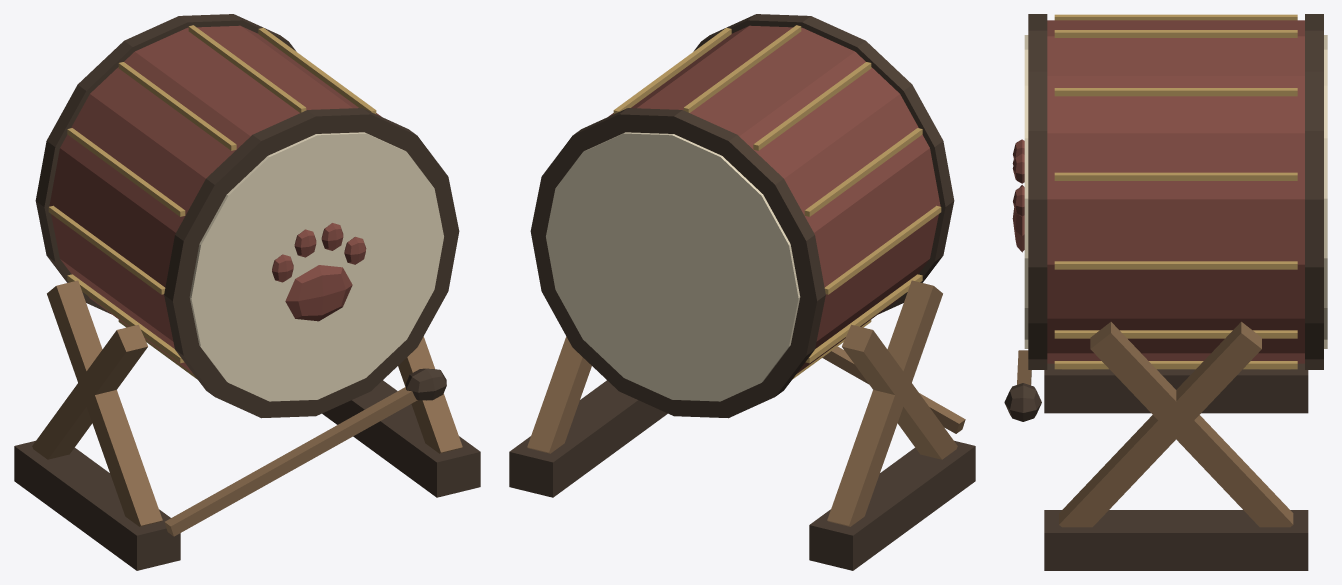
The model's file is 08_Commemorative_Drum.fbx.
3 views of the same model, side by side, from view 1: azimuth 30°, elevation 25°; view 2: azimuth 150°, elevation 25°; view 3: azimuth 270°, elevation 25° (orthographic). The views are drawn at different scales.
Visible parts, largest first — view 1: Structure.007; view 2: Structure.007; view 3: Structure.007.
Boxes of the visible parts, x1,y1,x2,y2 form: Structure.007: (14, 14, 480, 570); Structure.007: (509, 14, 975, 570); Structure.007: (1004, 14, 1327, 570).
Size of the model in its own units: 204 by 237 by 154.
